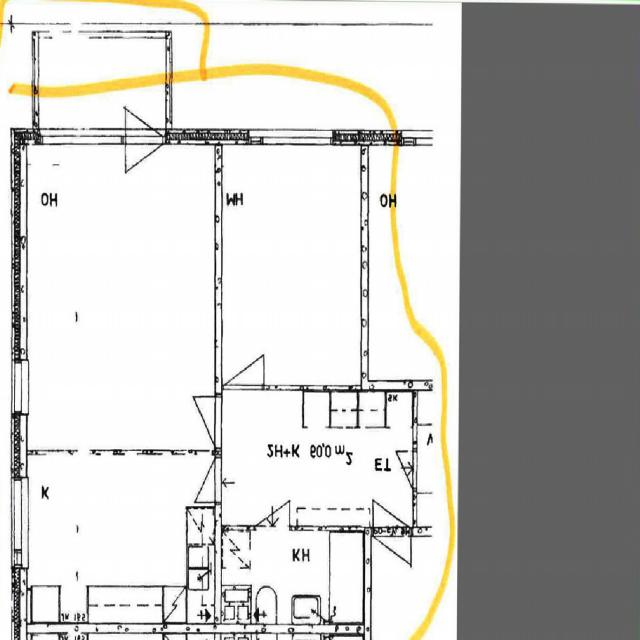door: (126, 128, 163, 192), (126, 80, 163, 144), (176, 396, 222, 446), (224, 333, 264, 390), (374, 526, 410, 584), (374, 478, 410, 535), (181, 458, 222, 502), (254, 480, 289, 530), (384, 452, 418, 488)
